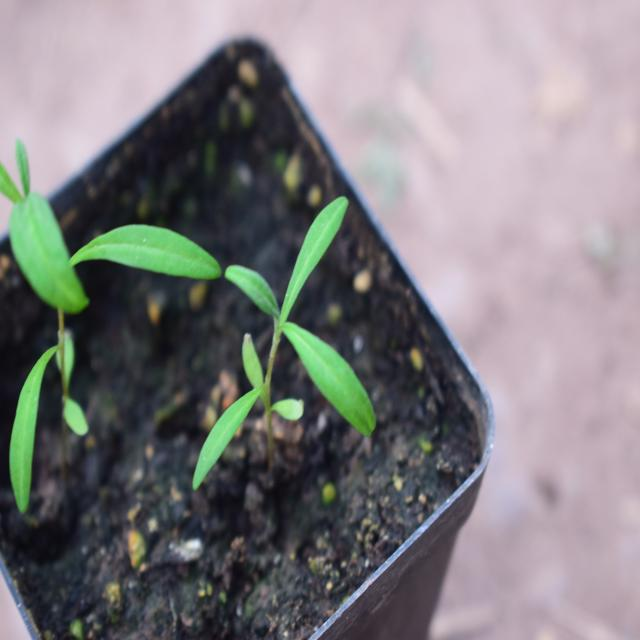white_smart_weed: (184, 192, 398, 508), (0, 144, 200, 452)
